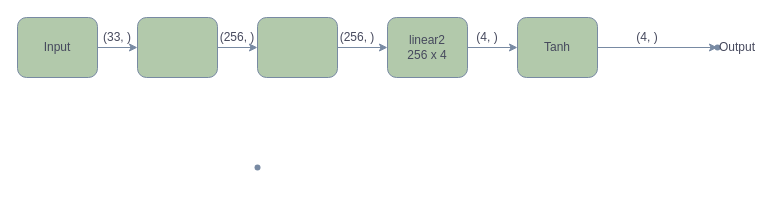
Some shapes in this 775 by 205 pixel diagram are drawn without their labels. Each missing label, with the centre of its shape:
"linear1 (33 x 256)" goes at pixel 177 47.
"ReLU" goes at pixel 297 47.
